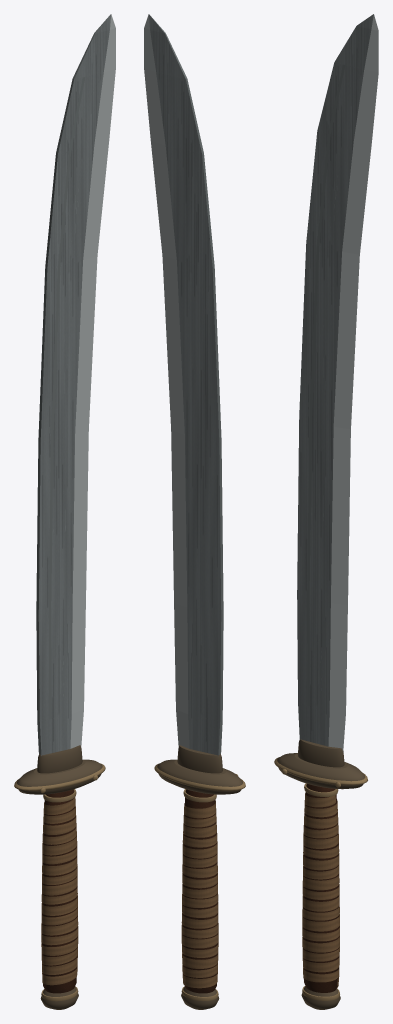
The model's file is dao_study.glb.
The picture shows the model from 3 angles, left to right: view 1: azimuth 30°, elevation 25°; view 2: azimuth 150°, elevation 25°; view 3: azimuth 330°, elevation 25°; orthographic projection. The views are drawn at different scales.
Parts seen in each view (by area): view 1: Blade, Grip | cord wrap, Blade | shallow fuller, Handle core, Guard | flared oval, Blade collar, Pommel | brass, Guard | outer rim; view 2: Blade, Grip | cord wrap, Handle core, Guard | flared oval, Blade collar, Guard | outer rim, Pommel | brass; view 3: Blade, Grip | cord wrap, Blade | shallow fuller, Handle core, Guard | flared oval, Blade collar, Pommel | brass, Guard | outer rim.
Part boxes in pixels (<box>): Blade: <box>36,14,115,756</box>; Grip | cord wrap: <box>41,797,78,985</box>; Blade | shallow fuller: <box>48,77,85,719</box>; Handle core: <box>42,789,77,993</box>; Guard | flared oval: <box>17,759,102,794</box>; Blade collar: <box>37,745,82,773</box>; Pommel | brass: <box>40,987,78,1009</box>; Guard | outer rim: <box>14,763,105,790</box>; Blade: <box>144,14,223,756</box>; Grip | cord wrap: <box>181,800,218,988</box>; Handle core: <box>182,789,217,993</box>; Guard | flared oval: <box>157,759,242,794</box>; Blade collar: <box>177,745,222,773</box>; Guard | outer rim: <box>154,763,245,790</box>; Pommel | brass: <box>181,987,219,1009</box>; Blade: <box>297,14,378,752</box>; Grip | cord wrap: <box>302,793,339,988</box>; Blade | shallow fuller: <box>307,64,345,706</box>; Handle core: <box>302,784,339,992</box>; Guard | flared oval: <box>277,753,365,789</box>; Blade collar: <box>297,739,344,767</box>; Pommel | brass: <box>301,986,340,1009</box>; Guard | outer rim: <box>274,757,367,785</box>.
Bounding box in the file's own units: 0.104 × 0.967 × 0.039.
Materials: 8 (3 with a texture image).
